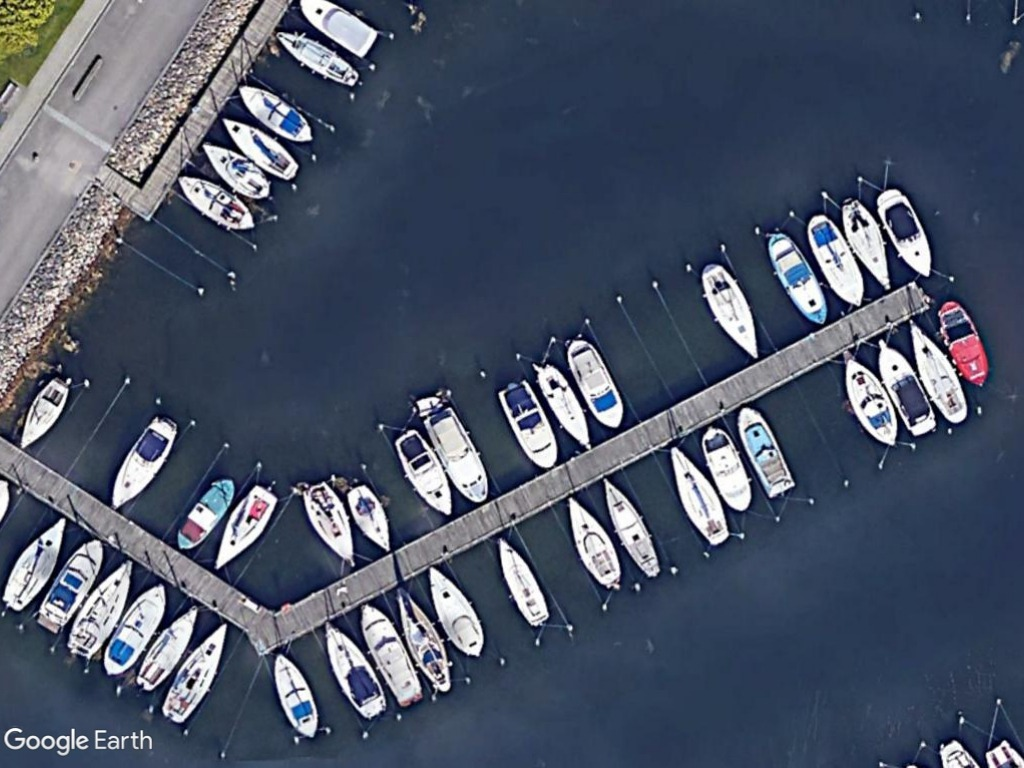boat: (902, 313, 977, 429), (354, 599, 430, 713), (30, 526, 107, 637), (101, 408, 180, 516), (62, 552, 137, 664), (318, 617, 396, 722), (422, 400, 497, 508), (158, 615, 231, 724), (695, 260, 768, 368), (664, 438, 735, 549), (559, 491, 630, 600), (491, 371, 564, 475), (130, 594, 205, 695), (0, 508, 70, 615), (599, 471, 666, 582), (764, 225, 834, 329), (872, 331, 939, 439), (269, 19, 364, 95), (801, 206, 868, 313), (734, 400, 799, 510), (394, 582, 456, 696), (872, 182, 941, 283), (229, 77, 323, 151), (215, 112, 305, 188), (100, 578, 167, 680), (208, 482, 282, 574), (423, 561, 489, 664), (838, 352, 903, 454), (168, 168, 263, 237), (564, 329, 628, 431), (391, 424, 458, 521), (835, 190, 897, 294), (532, 355, 595, 456), (493, 533, 556, 632), (936, 294, 996, 393), (168, 468, 236, 555), (700, 420, 757, 521), (300, 478, 360, 572), (195, 138, 276, 205), (293, 0, 380, 61), (269, 646, 322, 743), (12, 372, 73, 456), (346, 479, 398, 556)
